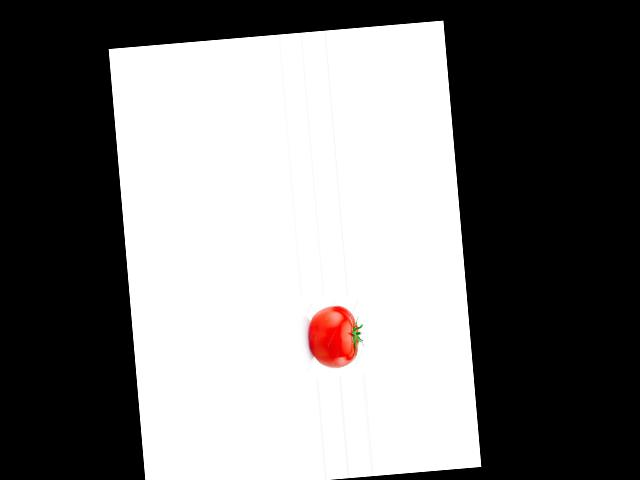tomato: (307, 303, 360, 369)
